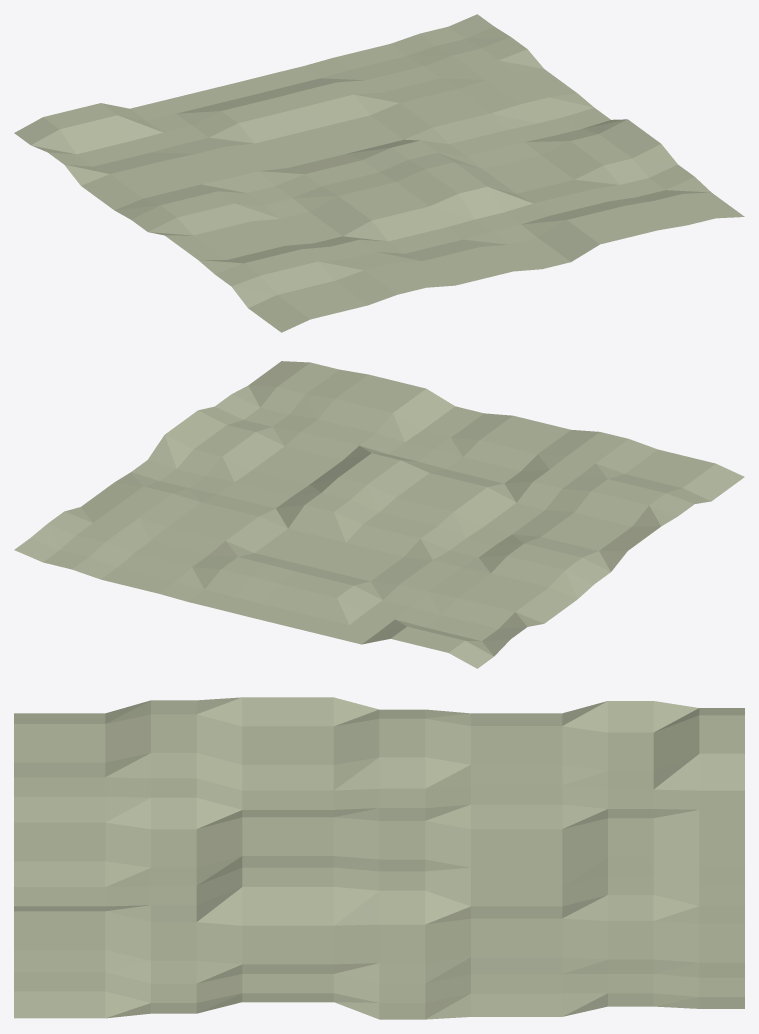
3 renders of one model, top to bottom at view 1: azimuth 30°, elevation 25°; view 2: azimuth 150°, elevation 25°; view 3: azimuth 270°, elevation 25°, orthographic. The views are drawn at different scales.
Bounding box in the file's own units: 32 × 0.9714 × 32.
